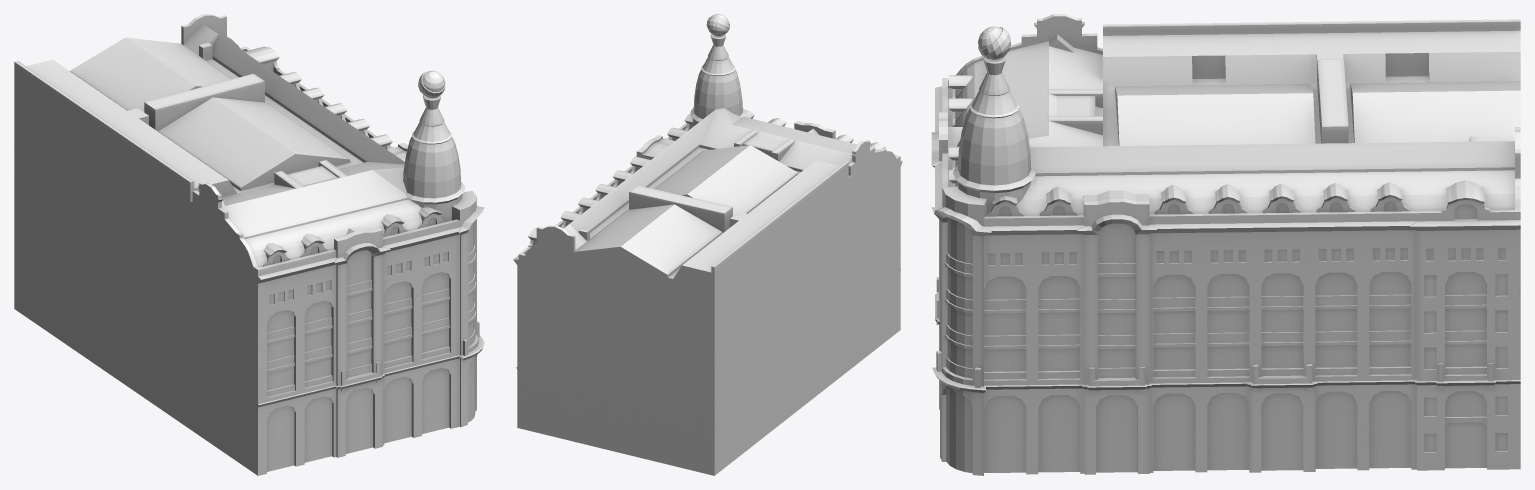
Rendered from zingerhouse.dae.
The picture shows the model from 3 angles, left to right: view 1: azimuth 30°, elevation 25°; view 2: azimuth 150°, elevation 25°; view 3: azimuth 270°, elevation 25°; orthographic projection. The views are drawn at different scales.
Parts seen in each view (by area): view 1: zingerhouse; view 2: zingerhouse; view 3: zingerhouse.
Boxes of the visible parts, x1,y1,x2,y2 form: zingerhouse: (14, 14, 484, 475); zingerhouse: (513, 14, 902, 475); zingerhouse: (931, 14, 1520, 475).
Bounding box in the file's own units: 0.0495 × 0.0809 × 0.0644.
Materials: 1 (1 with a texture image).
